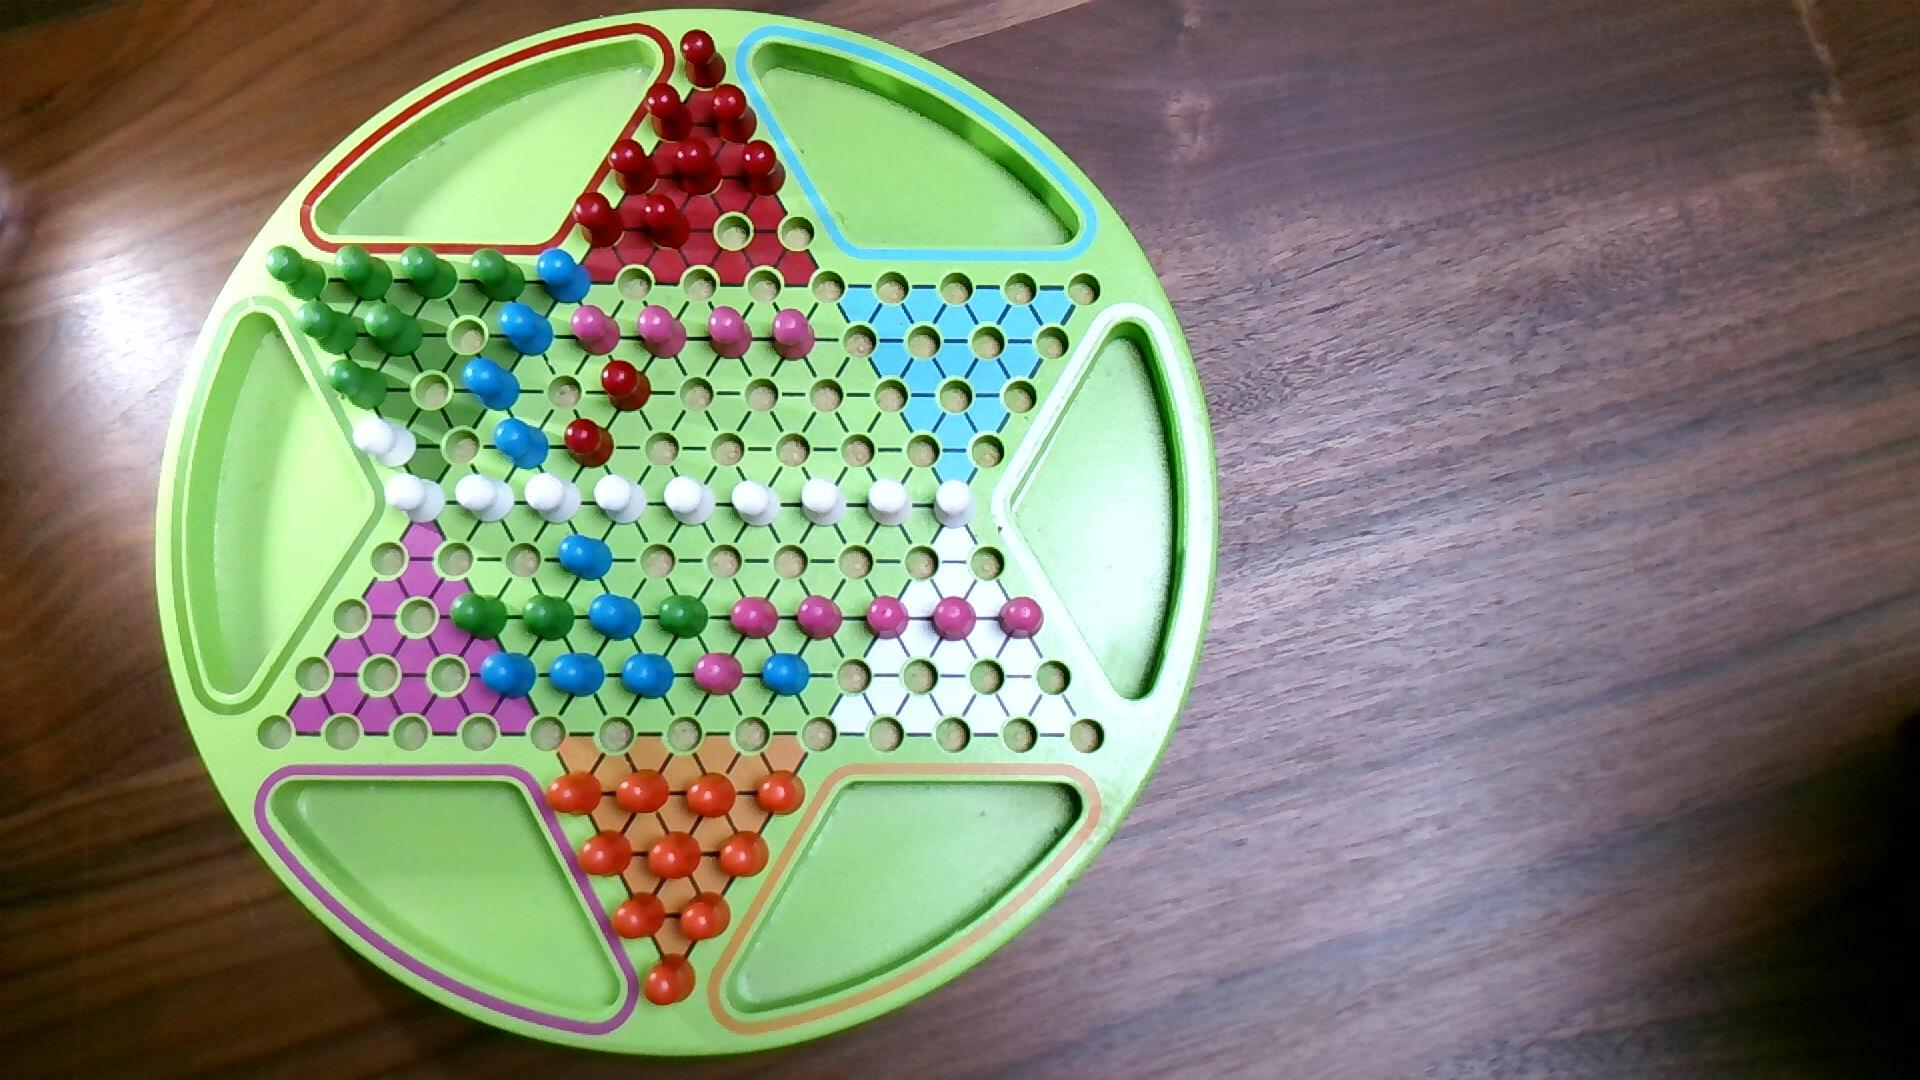B: (462, 355, 524, 414), (535, 247, 593, 307), (498, 301, 556, 359), (493, 417, 553, 472), (477, 650, 539, 702), (618, 651, 676, 702), (556, 534, 616, 583), (549, 651, 607, 700), (588, 593, 644, 644), (760, 651, 814, 700)
G: (297, 297, 361, 357), (265, 244, 330, 303), (335, 243, 396, 305), (326, 357, 392, 414), (363, 302, 426, 360), (398, 244, 462, 302), (468, 247, 527, 305), (448, 589, 512, 644), (521, 592, 578, 644), (655, 593, 711, 644)
O: (543, 767, 607, 820), (641, 952, 699, 1007), (645, 829, 704, 884), (575, 827, 636, 880), (676, 890, 733, 944), (609, 890, 669, 942), (613, 766, 673, 818), (715, 829, 771, 881), (752, 767, 808, 819), (682, 771, 738, 820)
R: (670, 135, 725, 199), (644, 80, 698, 144), (607, 137, 662, 198), (574, 189, 626, 251), (641, 193, 694, 255), (679, 28, 729, 92), (709, 83, 761, 145), (738, 138, 789, 200), (600, 359, 654, 415), (564, 418, 617, 469)
R2: (636, 303, 688, 363), (705, 305, 756, 363), (571, 303, 622, 357), (769, 307, 818, 363), (794, 593, 845, 644), (692, 651, 746, 698), (931, 593, 978, 644), (864, 593, 911, 644), (731, 595, 781, 642), (997, 596, 1046, 642)
W: (353, 417, 419, 471), (524, 471, 584, 527), (382, 473, 448, 525), (454, 473, 517, 526), (662, 473, 717, 529), (593, 473, 650, 527), (731, 479, 783, 529), (866, 477, 915, 529), (800, 477, 849, 529), (932, 479, 978, 531)
